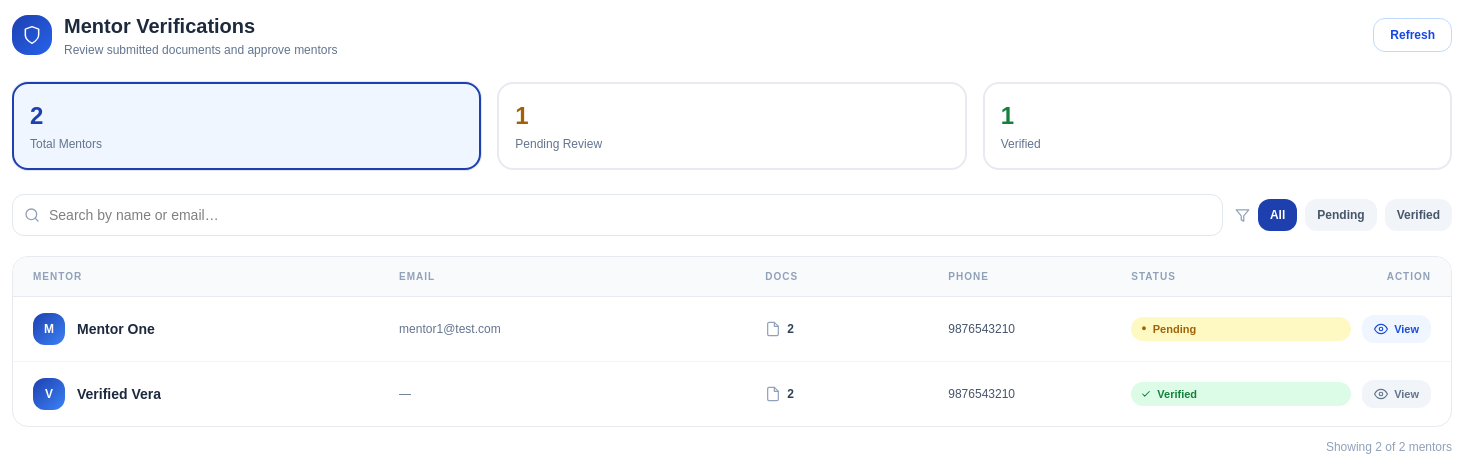
Test: AdminVerifications › filters via the stat-pill buttons too
The image size is (1464, 471).
Expected: the text "Mentor One" is shown, [77,319,155,339]
Click the button "1 Verified".
click(1021, 144)  # box [983,82,1452,170]
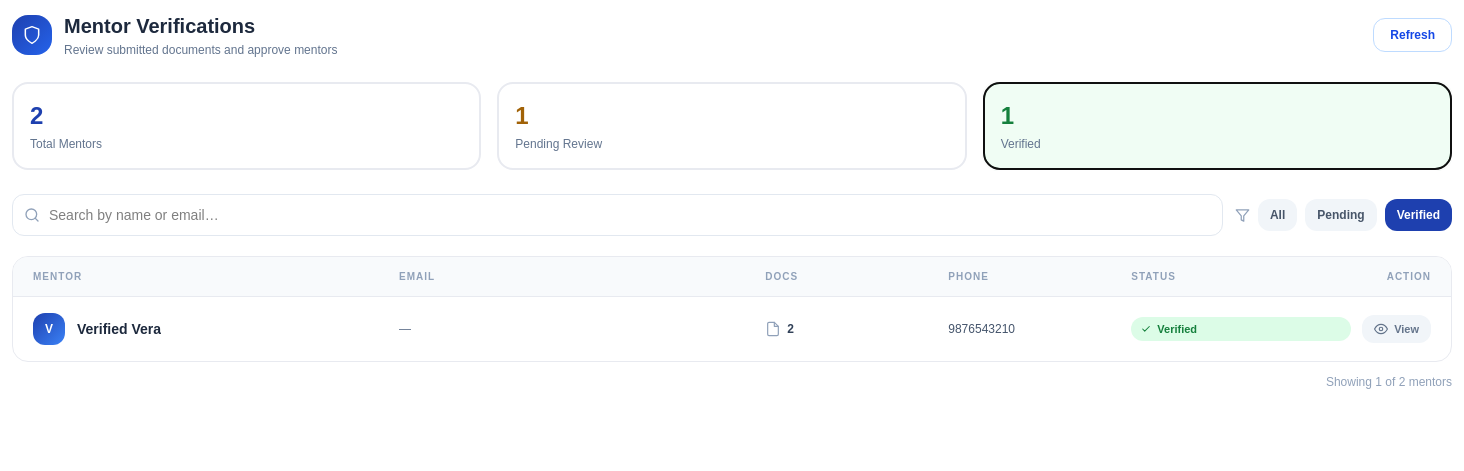
Expected: the text "Verified Vera" is shown, [77,319,161,339]
Now the button "Mentor One" is gone
